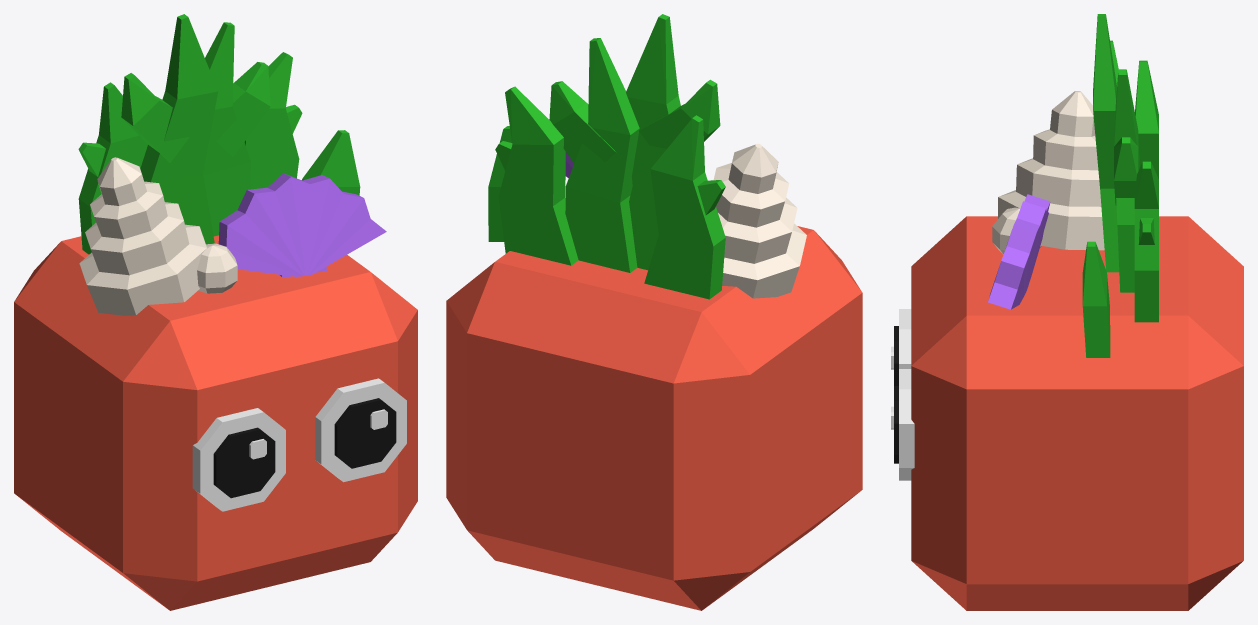
File: Shelly.fbx
3 views of the same model, side by side, from view 1: azimuth 30°, elevation 25°; view 2: azimuth 150°, elevation 25°; view 3: azimuth 270°, elevation 25° (orthographic). The views are drawn at different scales.
Visible parts, largest first — view 1: Shelly, Shelly_Seaweed, Shelly_Spiral, Shelly_Scallop, Shelly_Eyes, Shelly_Pupils; view 2: Shelly, Shelly_Seaweed, Shelly_Spiral; view 3: Shelly, Shelly_Seaweed, Shelly_Spiral, Shelly_Scallop, Shelly_Eyes, Shelly_Pupils.
Part boxes in pixels (x1,y1,x2,y2): Shelly: [14, 235, 417, 610]; Shelly_Seaweed: [78, 14, 360, 254]; Shelly_Spiral: [79, 157, 237, 315]; Shelly_Scallop: [218, 173, 386, 277]; Shelly_Eyes: [192, 378, 406, 511]; Shelly_Pupils: [213, 398, 396, 498]; Shelly: [446, 226, 862, 610]; Shelly_Seaweed: [488, 14, 725, 299]; Shelly_Spiral: [713, 143, 806, 298]; Shelly: [911, 216, 1243, 610]; Shelly_Seaweed: [1082, 14, 1158, 357]; Shelly_Spiral: [992, 91, 1104, 254]; Shelly_Scallop: [988, 194, 1050, 309]; Shelly_Eyes: [891, 309, 914, 480]; Shelly_Pupils: [894, 326, 898, 463].
Bounding box in the file's own units: 2 × 3.41 × 2.04.
